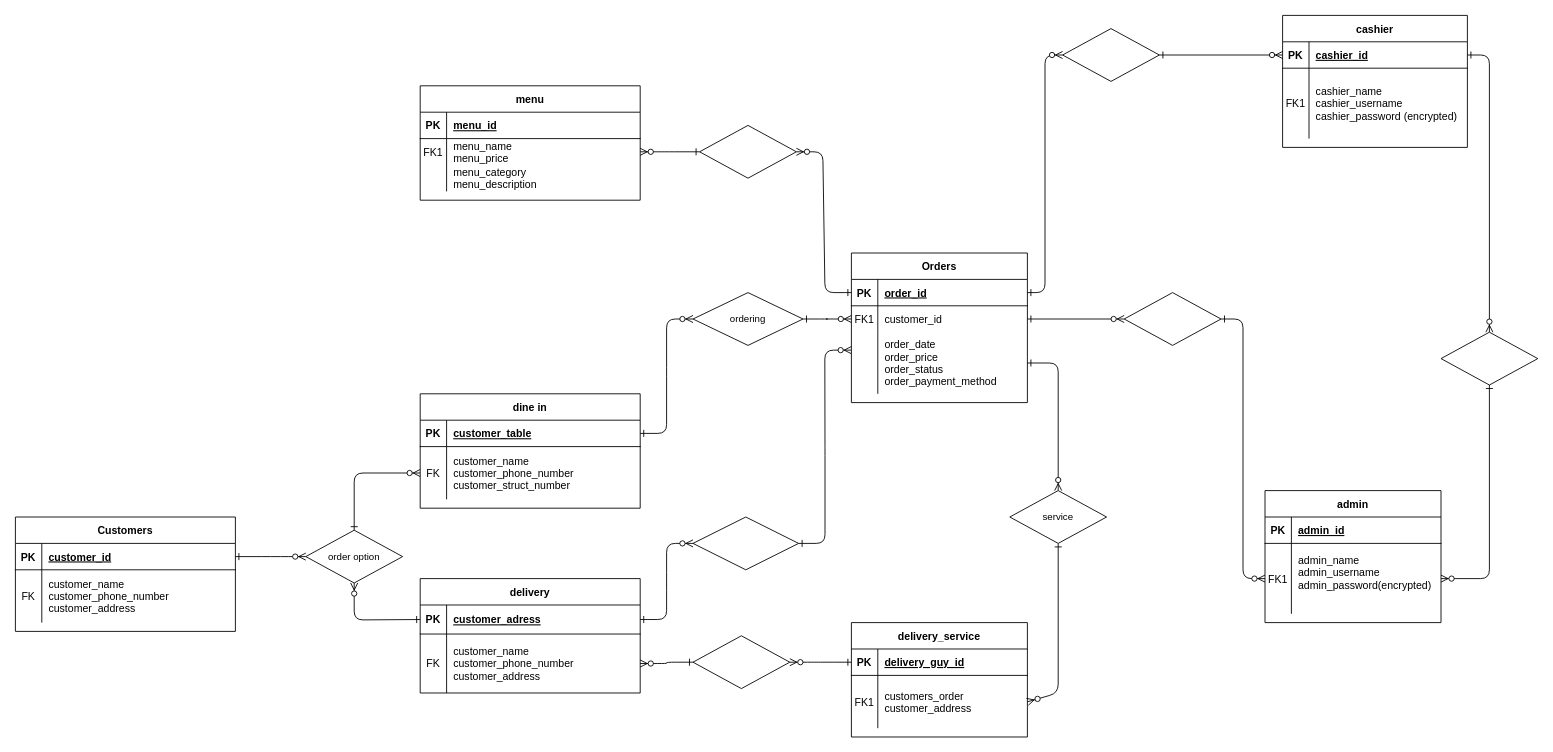
Some shapes in this 1553 by 752 pixel diagram are drawn without their labels. Here are the shapes that lost their labels. From the top down, the centre of each, then its label:
(1110,54): transaction
(747,151): choosing
(1172,318): management
(1489,358): supervising
(745,543): shipping
(741,662): delivering
